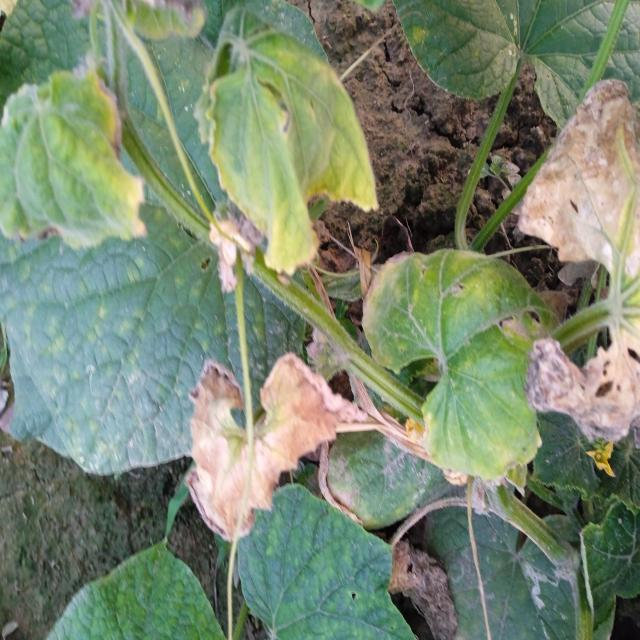cucumber_bacterial: (528, 77, 640, 456), (193, 55, 388, 243), (190, 354, 366, 528)
